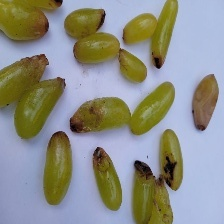grapes: (19, 59, 219, 209)
